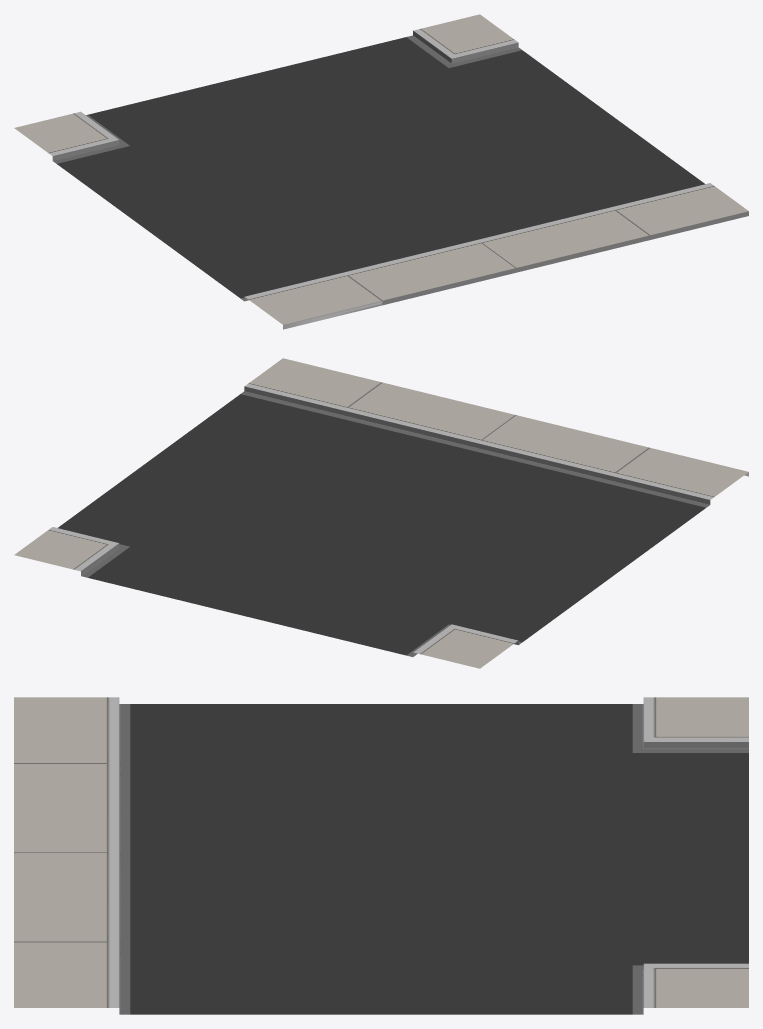
File: road_t_mesh.fbx
The picture shows the model from 3 angles, top to bottom: view 1: azimuth 30°, elevation 25°; view 2: azimuth 150°, elevation 25°; view 3: azimuth 270°, elevation 25°; orthographic projection. The views are drawn at different scales.
Parts seen in each view (by area): view 1: road_t_mesh; view 2: road_t_mesh; view 3: road_t_mesh.
Boxes of the visible parts, <box> form: road_t_mesh: <box>14,14,748,329</box>; road_t_mesh: <box>14,358,748,668</box>; road_t_mesh: <box>14,697,748,1014</box>.
Size of the model in its own units: 0.2 by 0.00195 by 0.2.
1 material, 1 textured.
